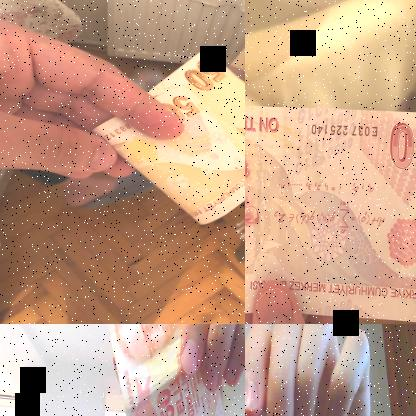5 TL: (92, 48, 244, 228)
